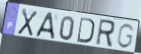0: (58, 15, 76, 42)
A: (34, 12, 56, 40)
D: (76, 16, 96, 45)
G: (116, 23, 136, 50)
R: (94, 18, 116, 49)
X: (16, 7, 39, 38)
